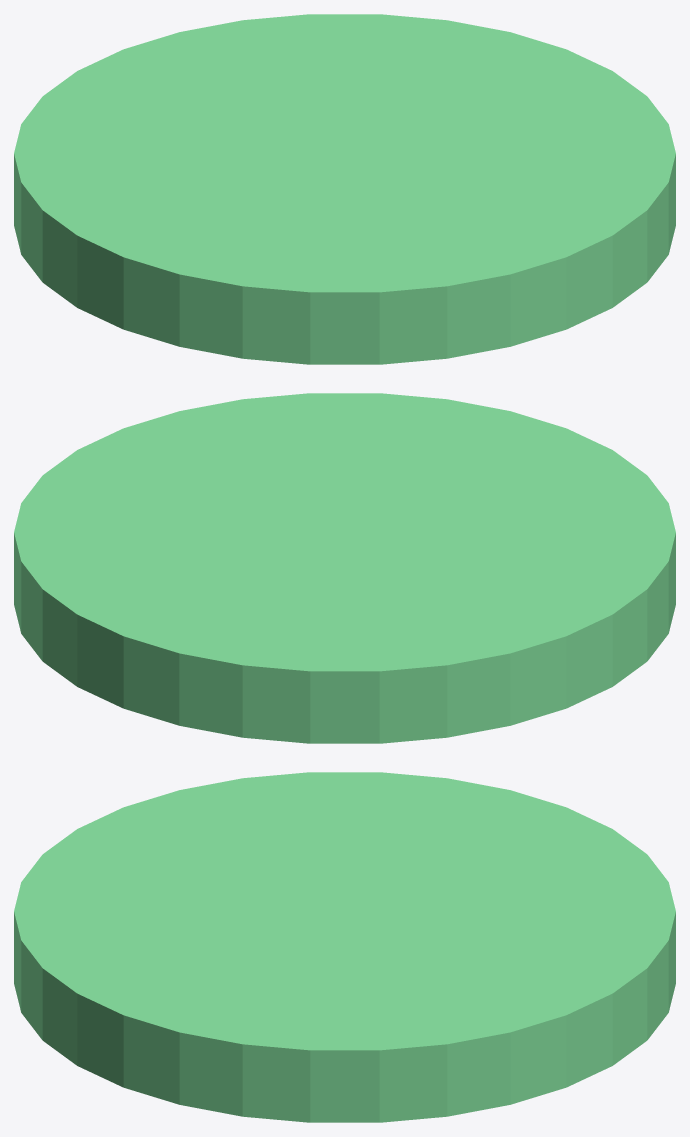
Rendered from IDK.fbx.
3 renders of one model, top to bottom at view 1: azimuth 30°, elevation 25°; view 2: azimuth 150°, elevation 25°; view 3: azimuth 270°, elevation 25°, orthographic.
Visible parts, largest first — view 1: Circle; view 2: Circle; view 3: Circle.
Part boxes in pixels (x1,y1,x2,y2): Circle: (14, 14, 675, 364); Circle: (14, 393, 675, 743); Circle: (14, 772, 675, 1122).
Bounding box in the file's own units: 235 × 28.48 × 236.
